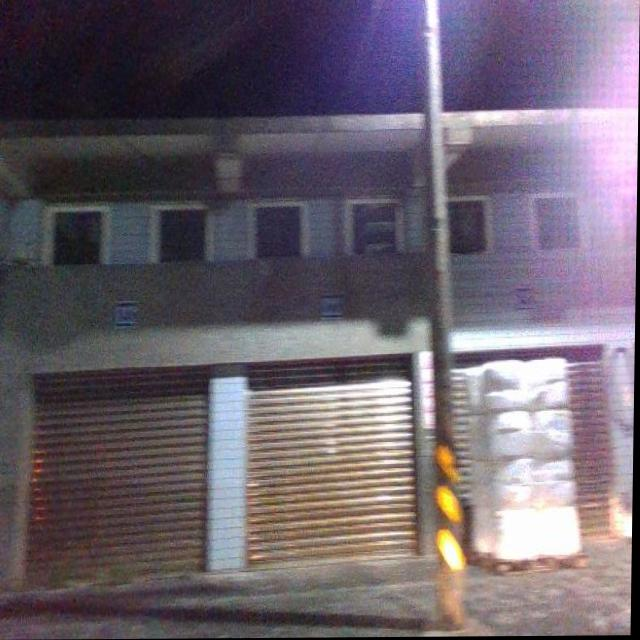pollute: (463, 362, 590, 577)
